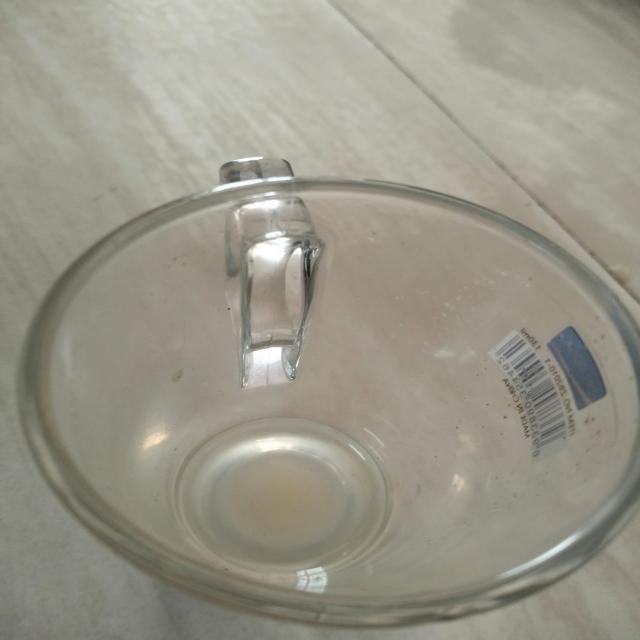glass-VX4N: (22, 154, 640, 628)
